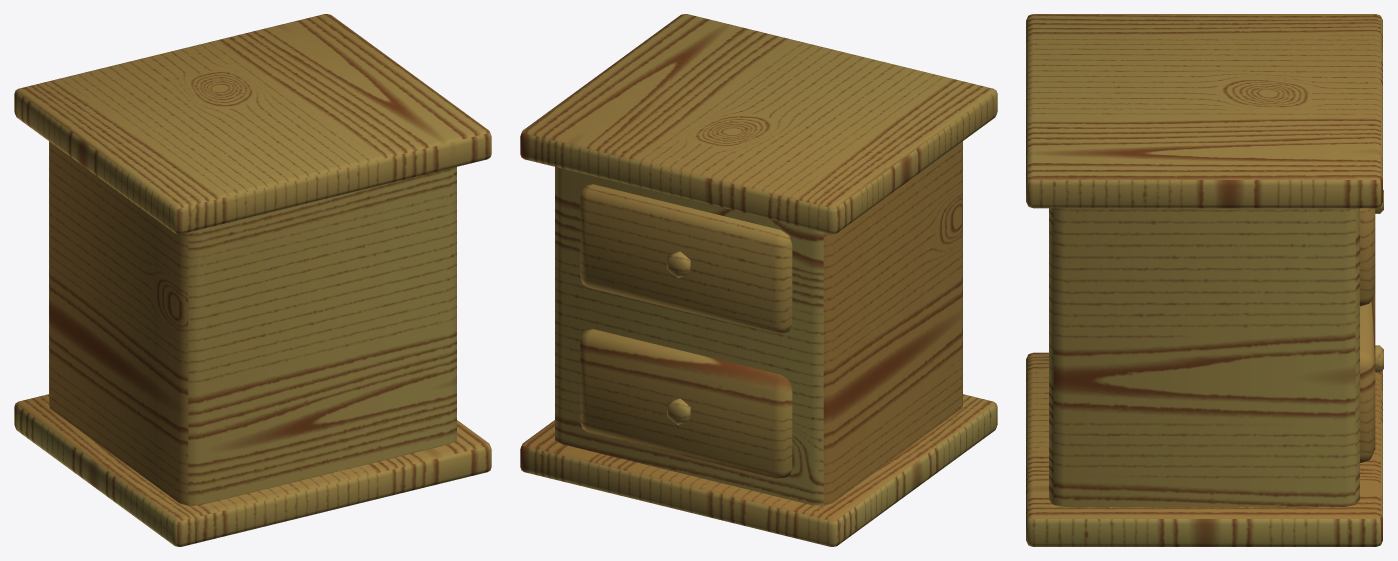
The model's file is nightstand01.glb.
3 renders of one model, left to right at view 1: azimuth 30°, elevation 25°; view 2: azimuth 150°, elevation 25°; view 3: azimuth 270°, elevation 25°, orthographic. The views are drawn at different scales.
Parts seen in each view (by area): view 1: nightstand01; view 2: nightstand01; view 3: nightstand01.
Boxes of the visible parts, x1,y1,x2,y2 form: nightstand01: [14, 14, 491, 546]; nightstand01: [520, 14, 997, 546]; nightstand01: [1026, 14, 1383, 546].
Bounding box in the file's own units: 0.3887 × 0.4003 × 0.3503.
1 material, 1 textured.
